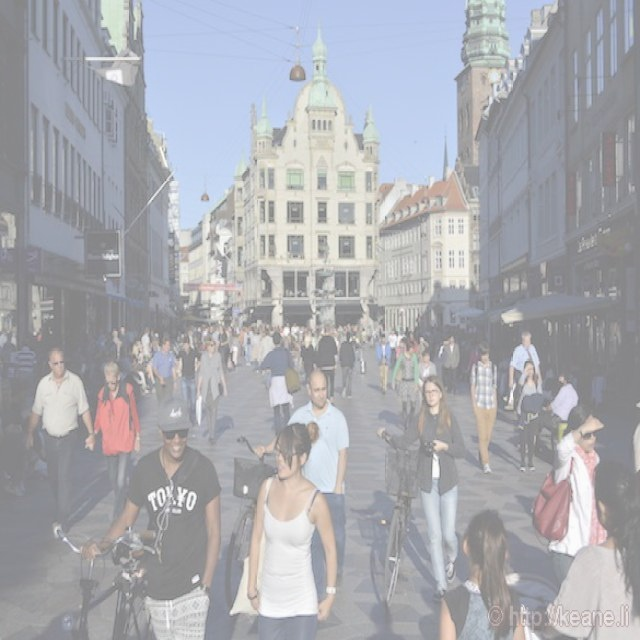pessoa: (78, 392, 224, 638), (228, 421, 340, 638), (252, 367, 352, 602), (376, 372, 470, 608), (537, 452, 639, 638), (23, 344, 95, 540), (433, 502, 528, 638), (546, 402, 610, 594), (82, 358, 142, 534), (257, 330, 302, 437), (0, 410, 46, 503), (511, 356, 547, 472), (470, 338, 498, 473), (195, 338, 228, 446), (118, 318, 161, 392), (388, 334, 420, 432), (175, 334, 202, 429), (250, 317, 324, 350), (508, 330, 542, 397), (315, 322, 339, 407), (545, 368, 579, 423), (174, 314, 232, 346), (152, 332, 177, 404), (78, 318, 120, 358), (337, 328, 357, 401), (328, 318, 384, 344), (404, 320, 441, 357), (440, 333, 460, 396), (418, 348, 438, 411), (14, 336, 38, 388), (374, 331, 392, 396), (258, 327, 276, 390), (588, 352, 610, 402), (545, 370, 568, 407), (630, 388, 639, 474), (442, 320, 486, 337), (240, 322, 254, 368), (227, 327, 243, 367), (385, 326, 403, 358), (466, 341, 498, 358), (34, 320, 55, 344), (141, 326, 150, 368), (234, 320, 244, 336)
